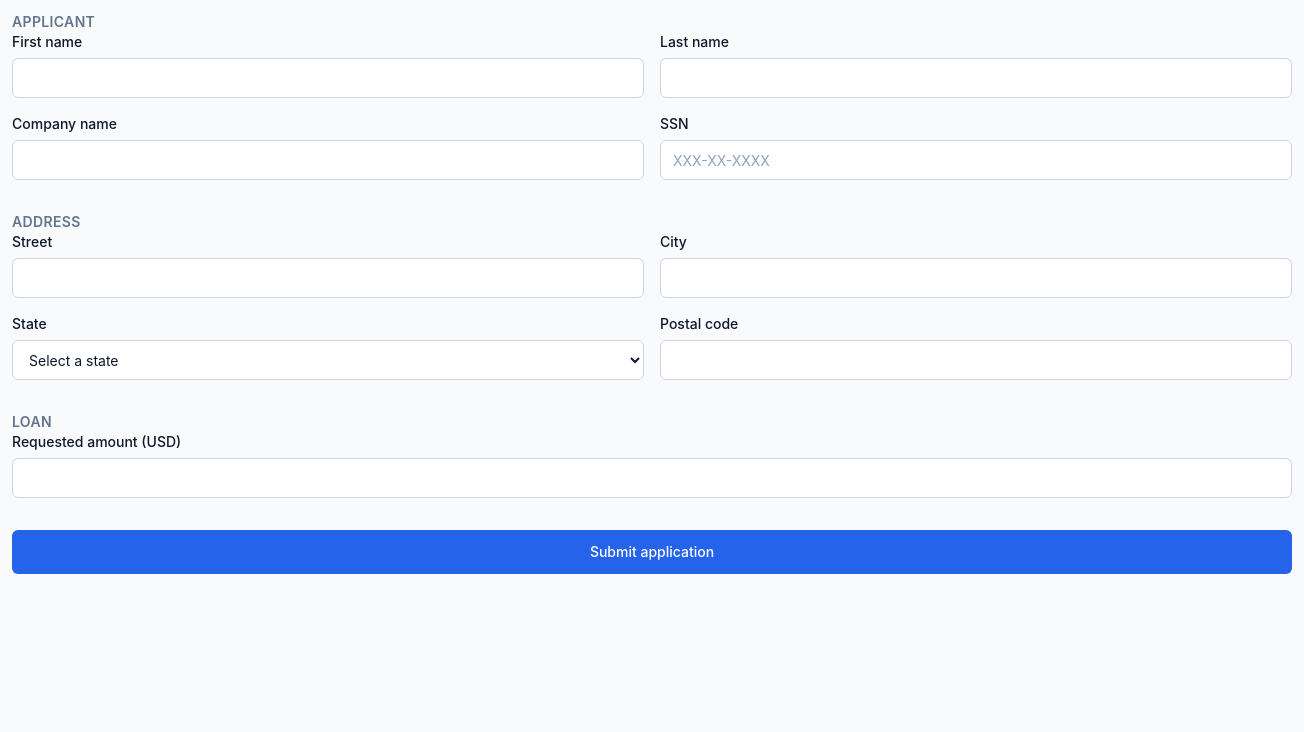
Test: LoanApplicationForm › shows an SSN-specific error for an invalid SSN
Type "123" into the field labelled "SSN" at (976, 160), box [660,140,1292,180]
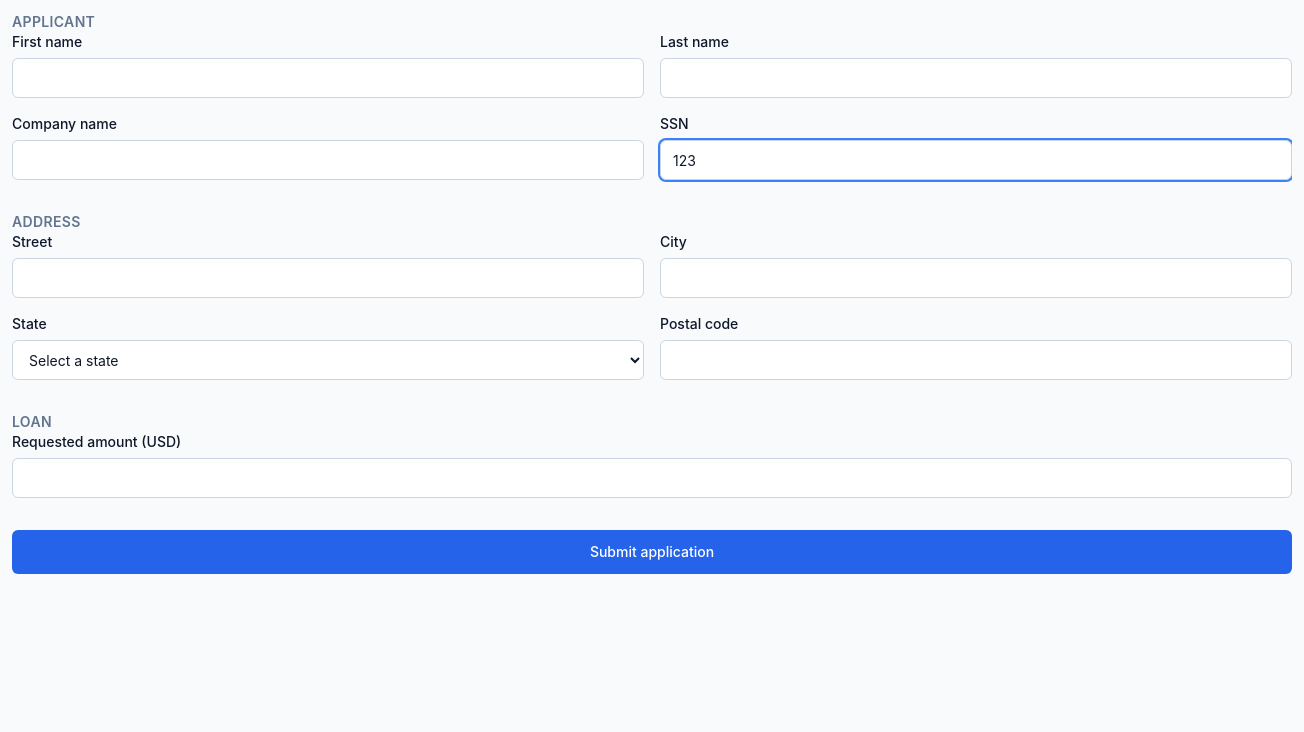
Click the button "Submit application" at (652, 552), box [12,530,1292,574]
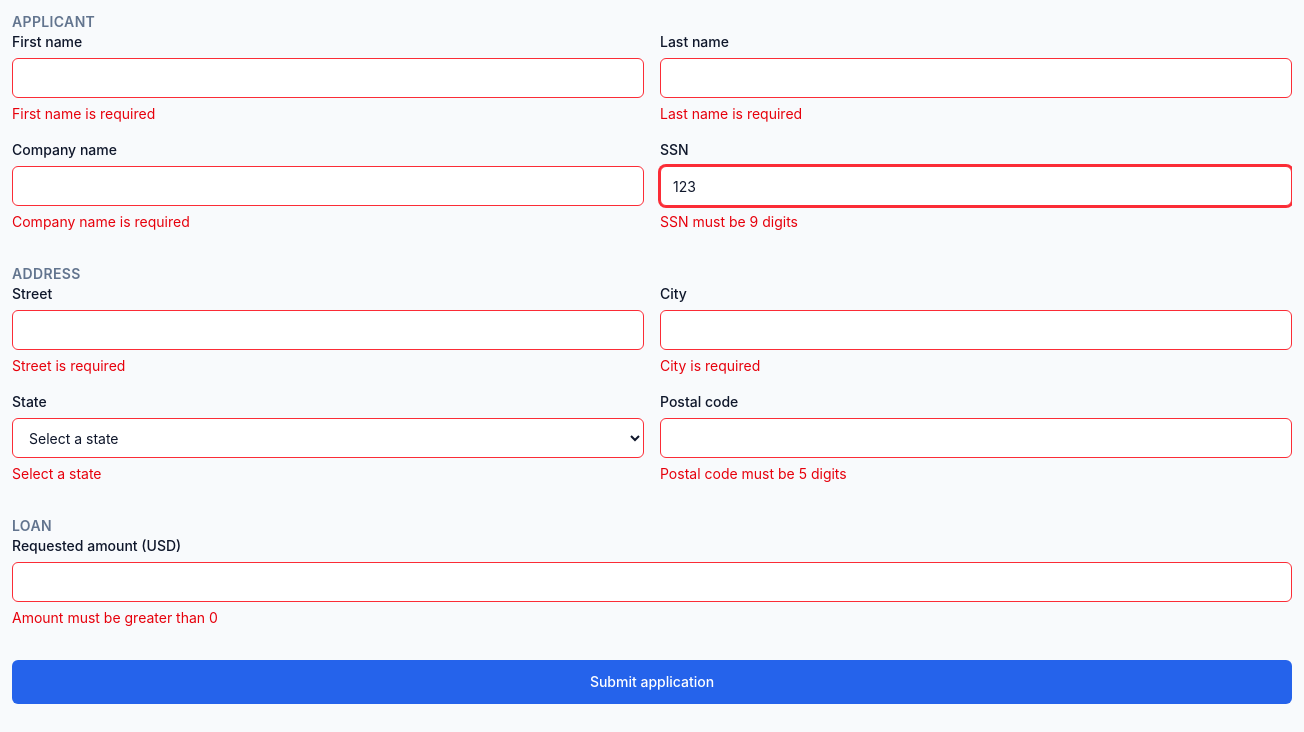
Check: the text "SSN must be 9 digits" is shown, box [660,213,798,230]
